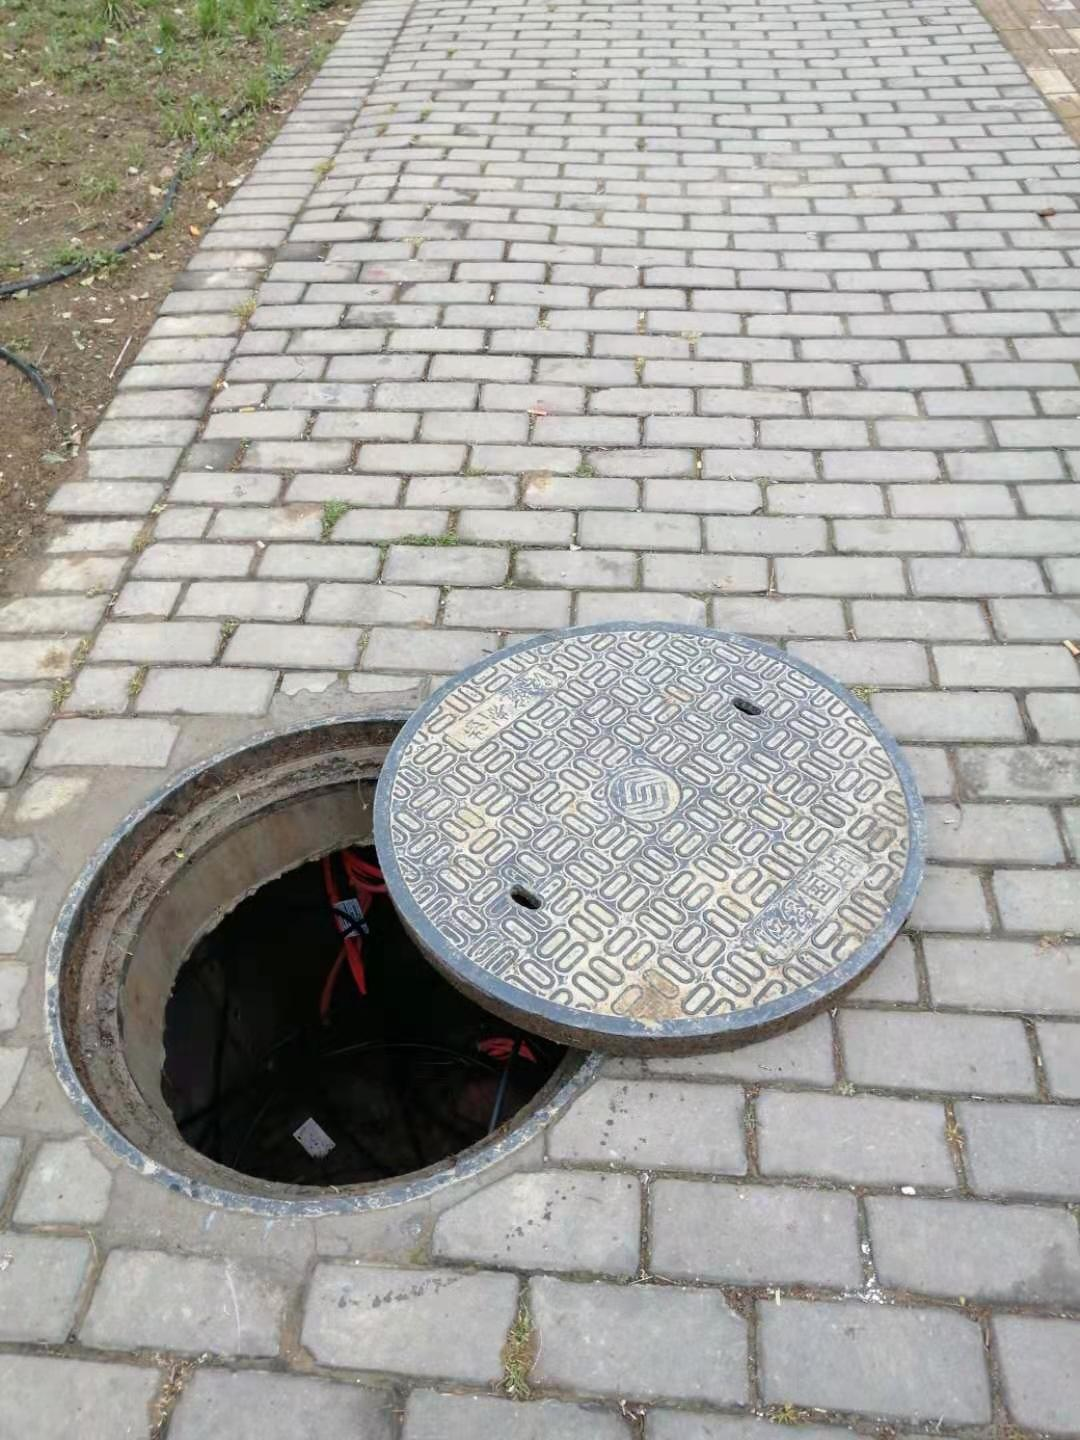well: (42, 622, 929, 1166)
